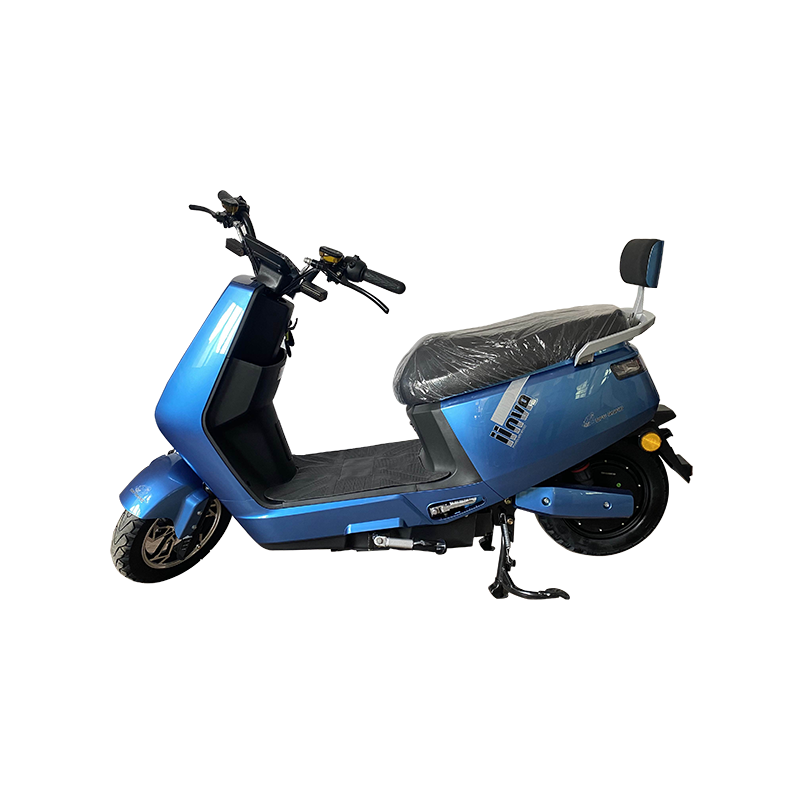MNV: (112, 188, 670, 603)
